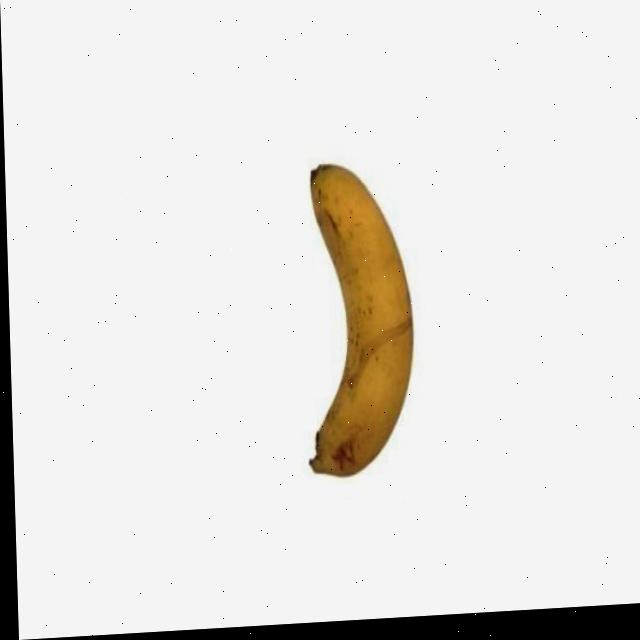banana: (299, 162, 418, 483)
